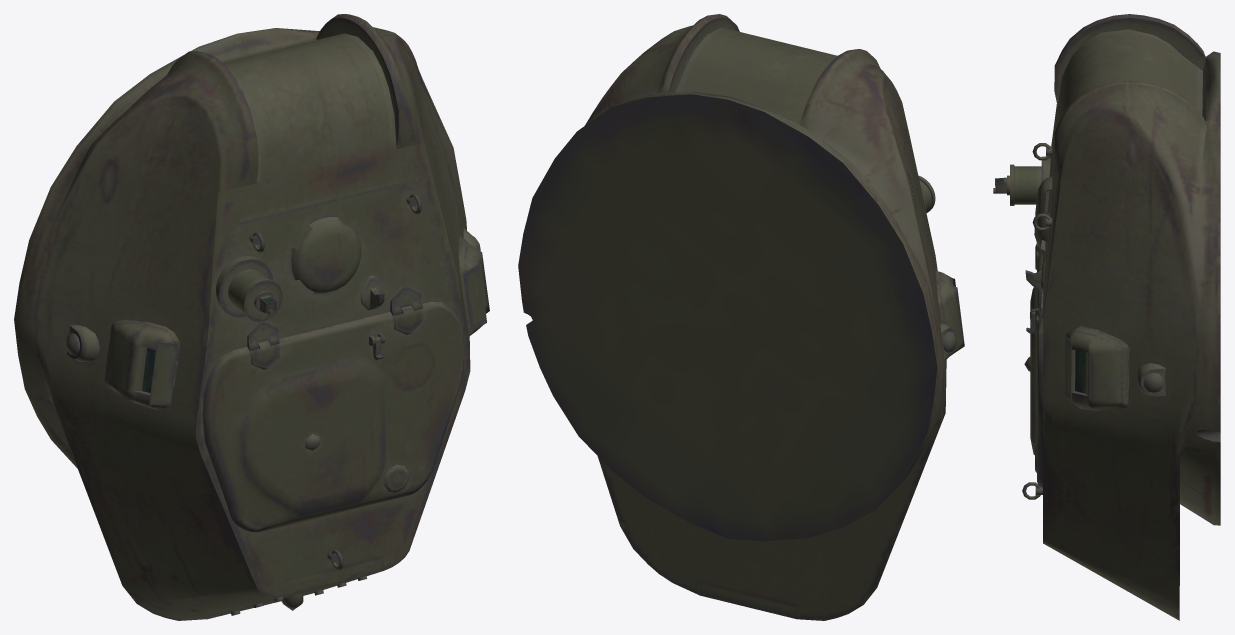
File: Turret_01.glb
The picture shows the model from 3 angles, left to right: view 1: azimuth 30°, elevation 25°; view 2: azimuth 150°, elevation 25°; view 3: azimuth 270°, elevation 25°; orthographic projection. The views are drawn at different scales.
Parts seen in each view (by area): view 1: set_0_group_0; view 2: set_0_group_0; view 3: set_0_group_0.
Boxes of the visible parts, box(x1,y1,x2,y2) form: set_0_group_0: box(14, 14, 489, 620); set_0_group_0: box(518, 14, 964, 620); set_0_group_0: box(993, 14, 1220, 620).
Size of the model in its own units: 1.76 by 2.22 by 0.8409.
Materials: 1 (1 with a texture image).
